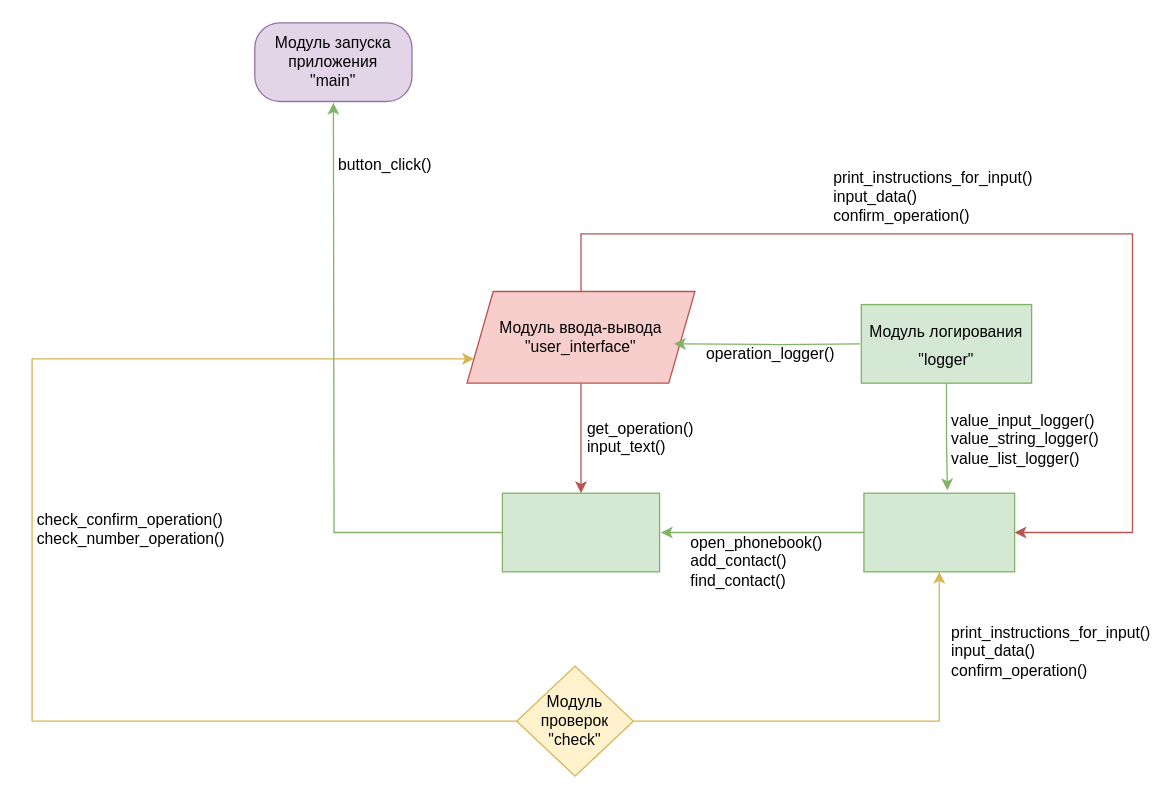
This 1174x799 diagram has some shape labels left out. Here are the shapes that lost their labels. From the top down, the centre of each, then its label:
point (580, 532): Контроллер "controller"
point (939, 532): Модуль операций "contact_operations"
